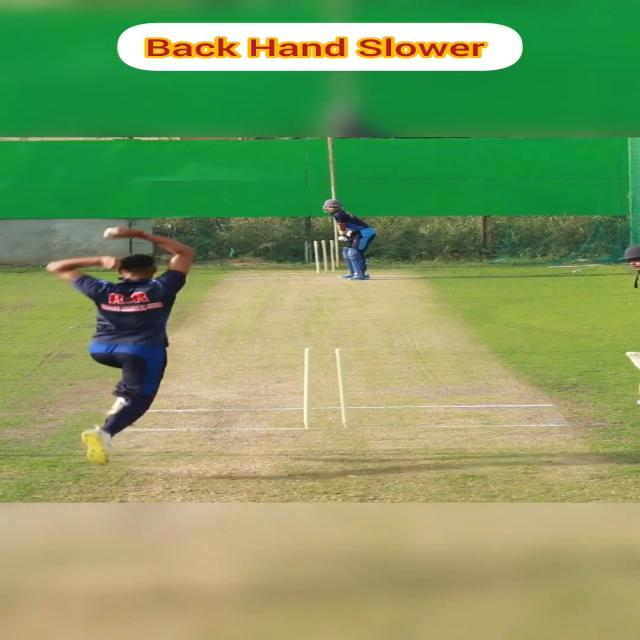stump: (302, 347, 349, 429), (312, 240, 336, 273)
